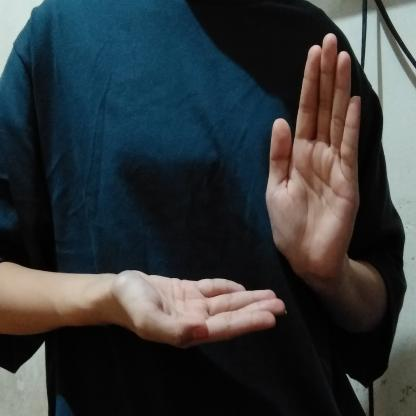hello: (82, 27, 387, 357)
